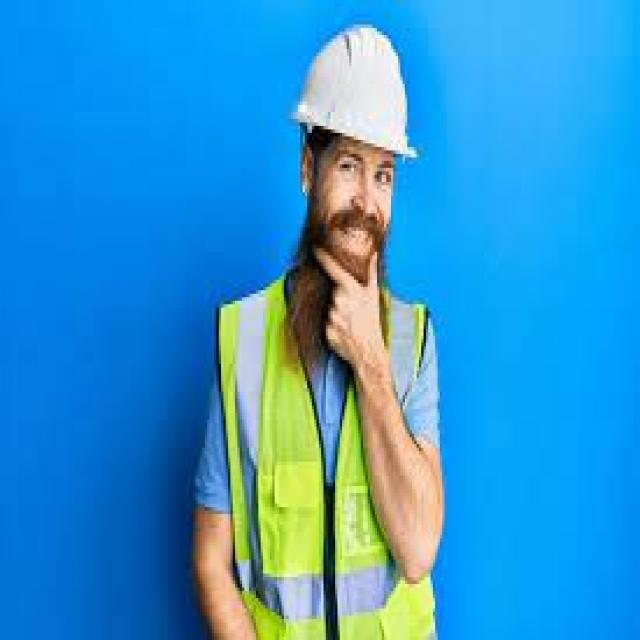Reflective-Jacket: (210, 276, 442, 636)
Safety-Helmet: (293, 21, 417, 168)
